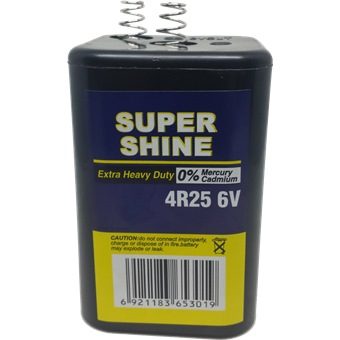6V: (62, 5, 286, 337)
